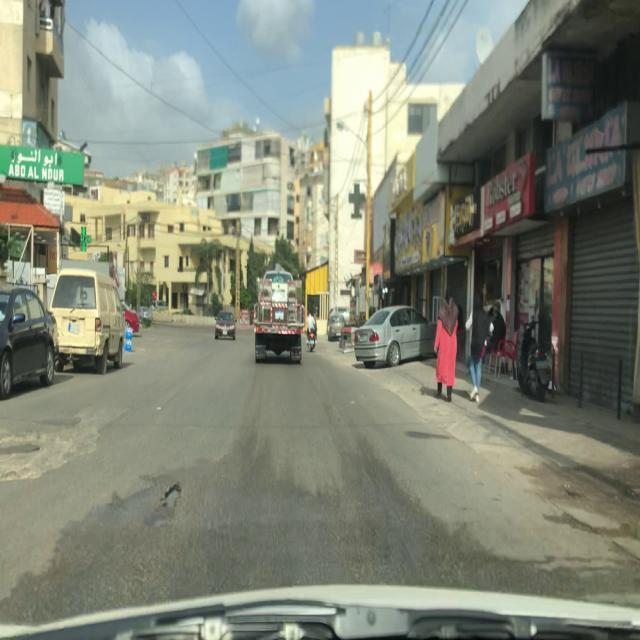pothole: (1, 423, 101, 483), (156, 481, 187, 512)
